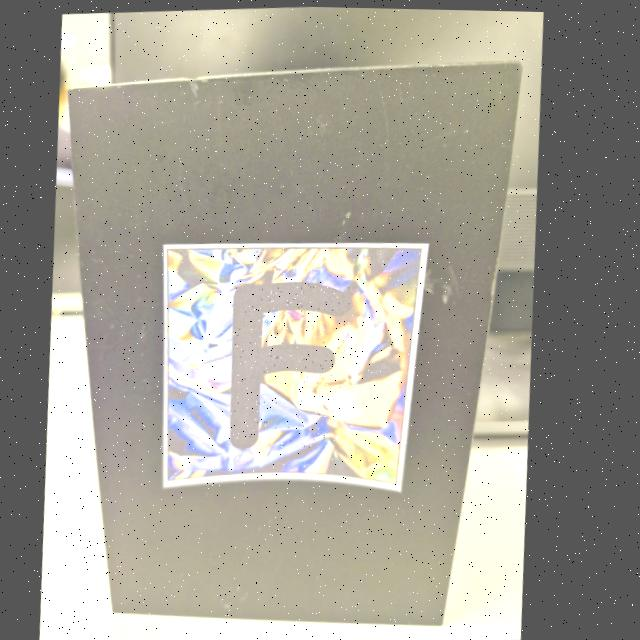F: (238, 281, 356, 448)
